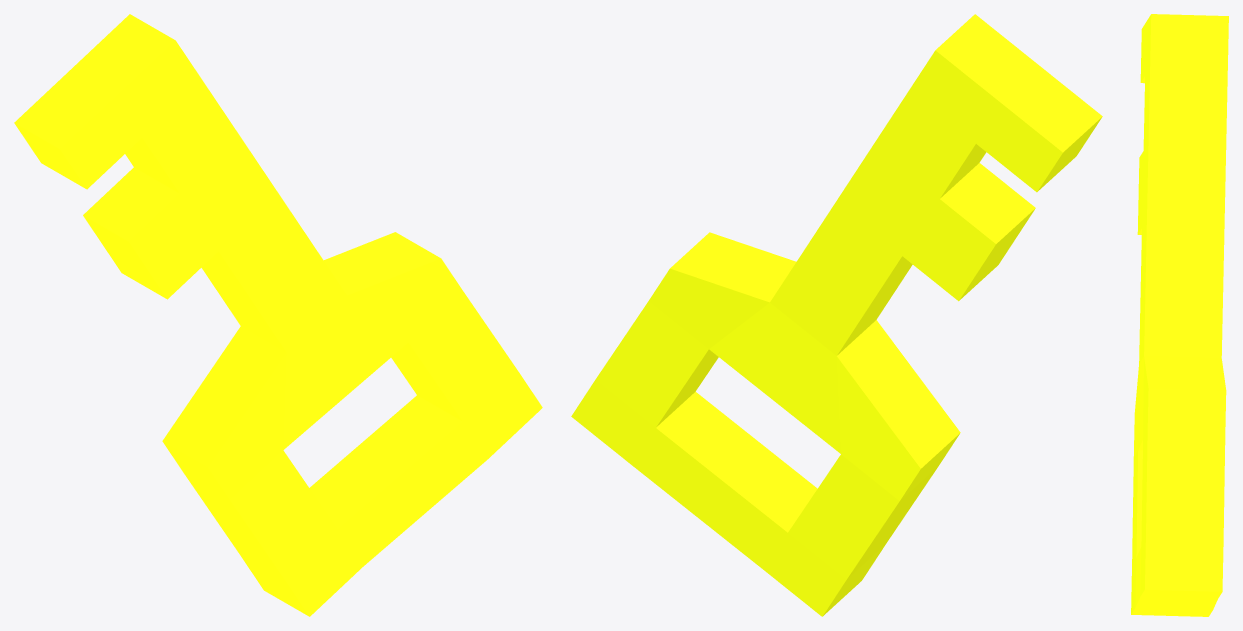
The model's file is MadeByJawns_ItchIO_GameItems_v1_0_1_Key.glb.
3 views of the same model, side by side, from view 1: azimuth 30°, elevation 25°; view 2: azimuth 150°, elevation 25°; view 3: azimuth 270°, elevation 25° (orthographic). The views are drawn at different scales.
Parts seen in each view (by area): view 1: Key; view 2: Key; view 3: Key.
Part boxes in pixels (x1=…): Key: x1=14, y1=14, x2=542, y2=616; Key: x1=571, y1=14, x2=1102, y2=616; Key: x1=1131, y1=14, x2=1228, y2=616.
Bounding box in the file's own units: 4.68 × 5.52 × 0.892.
